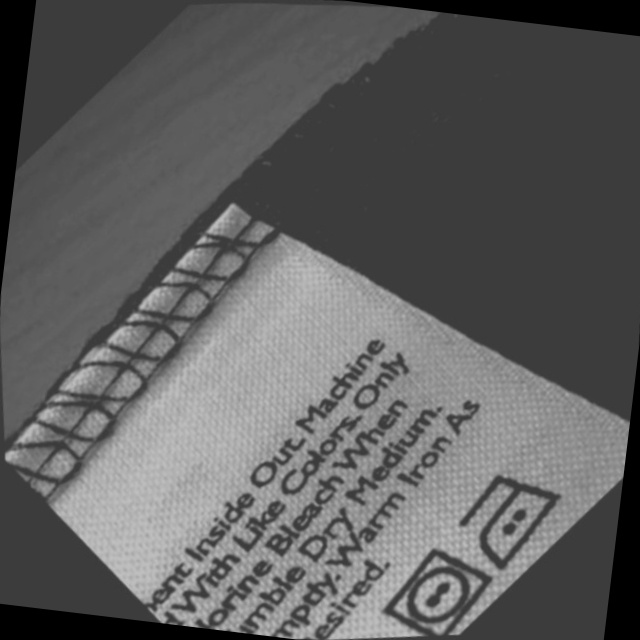iron_medium: (445, 456, 583, 585)
tumble_dry_medium: (370, 531, 510, 640)
